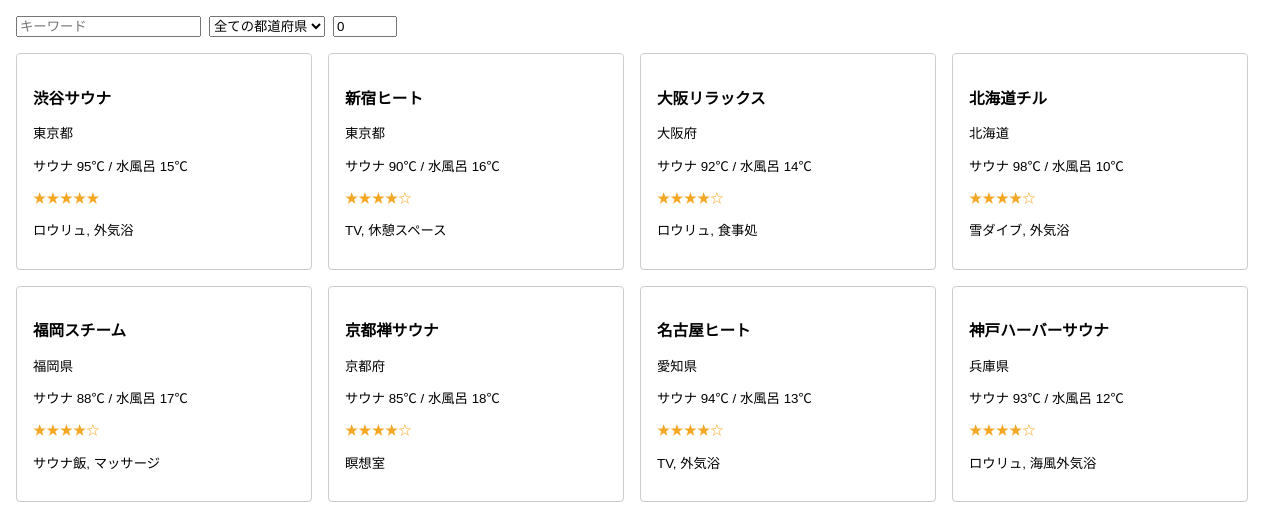
Test: rating filter
Replace the text in the number field named "最低評価" with "4.0": (365, 26) [333, 16, 397, 37]
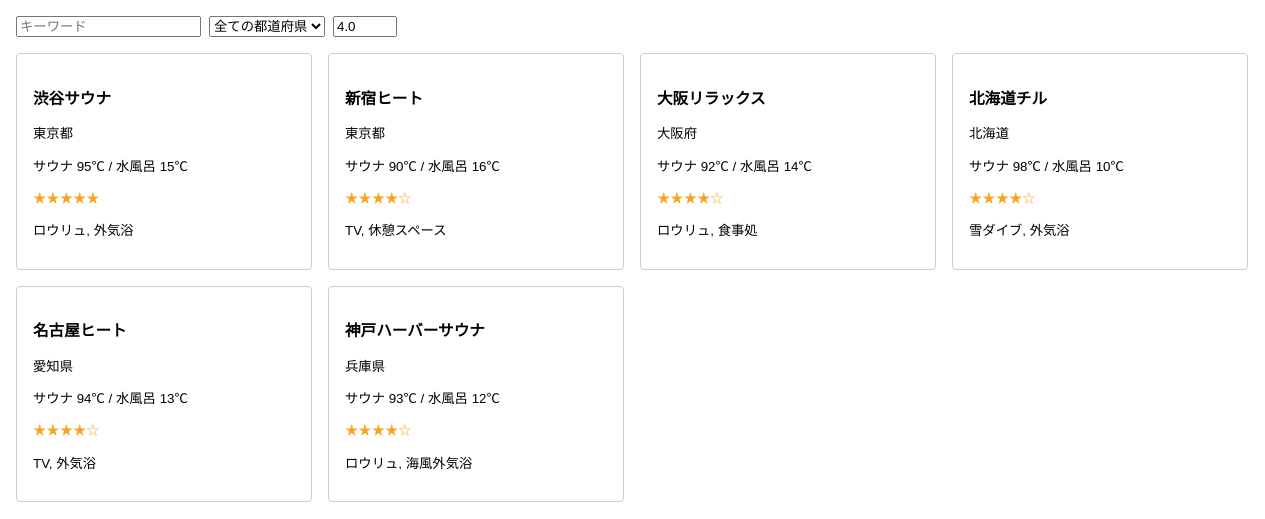
Expected: the number of buttons is 6, [16, 53, 312, 270]; [328, 53, 624, 270]; [640, 53, 936, 270]; [952, 53, 1248, 270]; [16, 286, 312, 502]; [328, 286, 624, 502]
